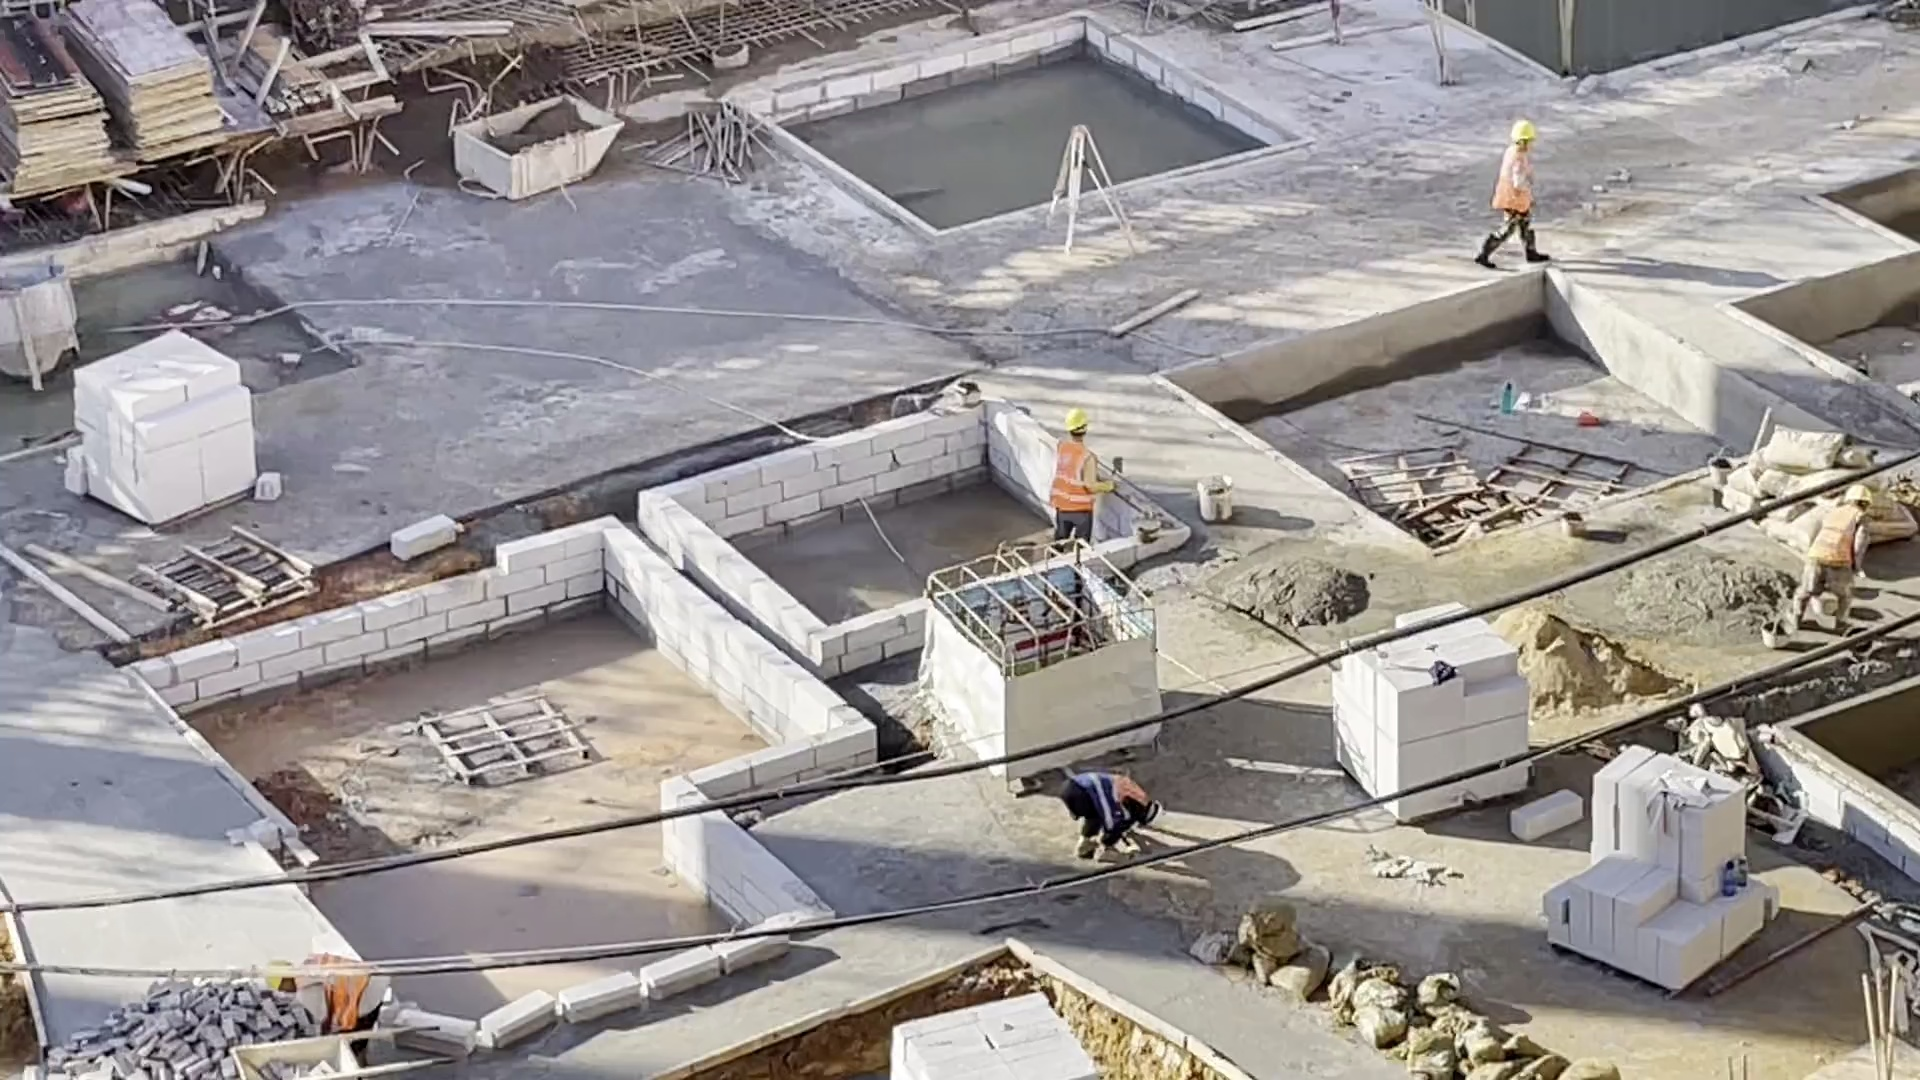board: (16, 9, 194, 157)
brick: (1574, 756, 1789, 972), (1354, 644, 1561, 826), (89, 345, 254, 515), (924, 994, 1065, 1080)
handcart: (244, 1014, 413, 1080)
helmet: (1053, 409, 1101, 442), (1511, 121, 1548, 161), (1846, 477, 1879, 511), (268, 964, 309, 987), (1151, 794, 1163, 841)
hopper: (428, 104, 601, 174)
person: (269, 955, 386, 1058), (1791, 476, 1871, 618), (1056, 768, 1166, 855), (1489, 123, 1561, 251), (1049, 421, 1106, 548)
vest: (309, 936, 398, 1014), (1074, 757, 1143, 827), (1504, 147, 1541, 231), (1058, 444, 1093, 517)
